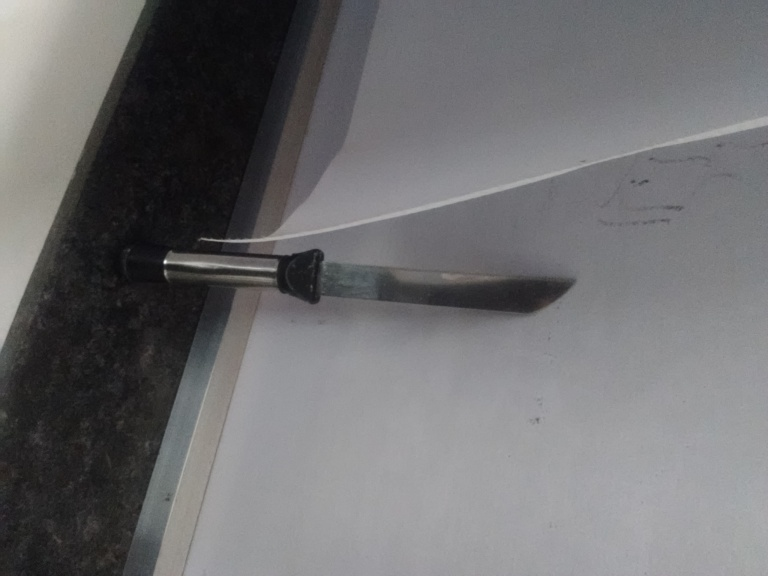knife: (114, 238, 577, 319)
